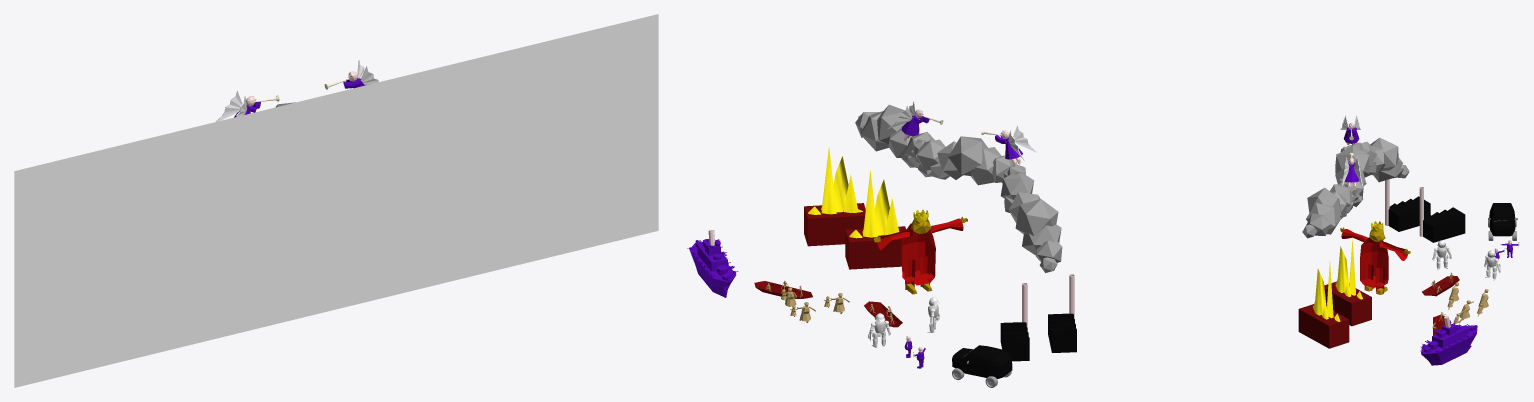
Rendered from 200918_AR_Synchronizität_v001.gltf.
3 views of the same model, side by side, from view 1: azimuth 30°, elevation 25°; view 2: azimuth 150°, elevation 25°; view 3: azimuth 270°, elevation 25° (orthographic). The views are drawn at different scales.
Parts seen in each view (by area): view 1: Plane; view 2: Cube (×4), Landscape (×2), Platonic (×3), Cylinder.003, Platonic.1 (×3), Cube.007_Cube.008, Platonic.3 (×2), Rumpf_Cube, boot_Cube; view 3: Cube (×4), Cylinder.003, Platonic (×3), Landscape (×2), Rumpf_Cube, Cube.007_Cube.008, Platonic.1 (×2), Cylinder (×2), boot_Cube, Platonic.4, Mainhaus_Cube.001, Platonic.3 (+1 smaller).
Boxes of the visible parts, box(x1,y1,x2,y2) form: Plane: box(14, 14, 658, 387); Cube (×4): box(804, 203, 1076, 361); Landscape (×2): box(808, 147, 899, 238); Platonic (×3): box(877, 104, 1058, 235); Cylinder.003: box(877, 218, 963, 289); Platonic.1 (×3): box(860, 111, 1061, 255); Cube.007_Cube.008: box(952, 345, 1012, 378); Platonic.3 (×2): box(917, 139, 1034, 199); Rumpf_Cube: box(689, 242, 736, 297); boot_Cube: box(754, 281, 812, 298); Cube (×4): box(1298, 196, 1465, 348); Cylinder.003: box(1341, 229, 1407, 294); Platonic (×3): box(1307, 137, 1398, 216); Landscape (×2): box(1313, 238, 1362, 321); Rumpf_Cube: box(1421, 327, 1477, 365); Cube.007_Cube.008: box(1489, 203, 1515, 236); Platonic.1 (×2): box(1306, 157, 1402, 234); Cylinder (×2): box(1385, 179, 1423, 236); boot_Cube: box(1422, 276, 1459, 296); Platonic.4: box(1306, 213, 1330, 235); Mainhaus_Cube.001: box(1432, 325, 1466, 347); Platonic.3: box(1330, 184, 1355, 206).
Size of the model in its own units: 1244 by 401 by 528.
